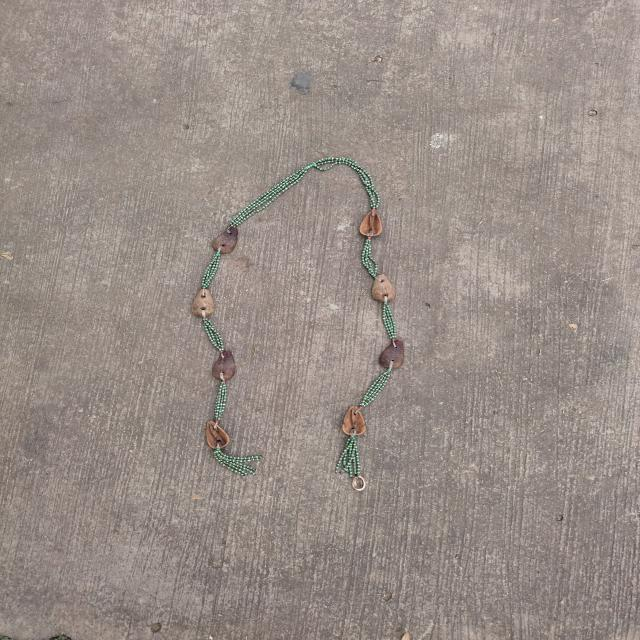facedown: (206, 221, 250, 259), (206, 345, 245, 385), (366, 268, 403, 308), (376, 332, 410, 374), (188, 282, 220, 324)
faceup: (334, 401, 376, 443), (198, 416, 238, 457), (356, 204, 386, 241)
